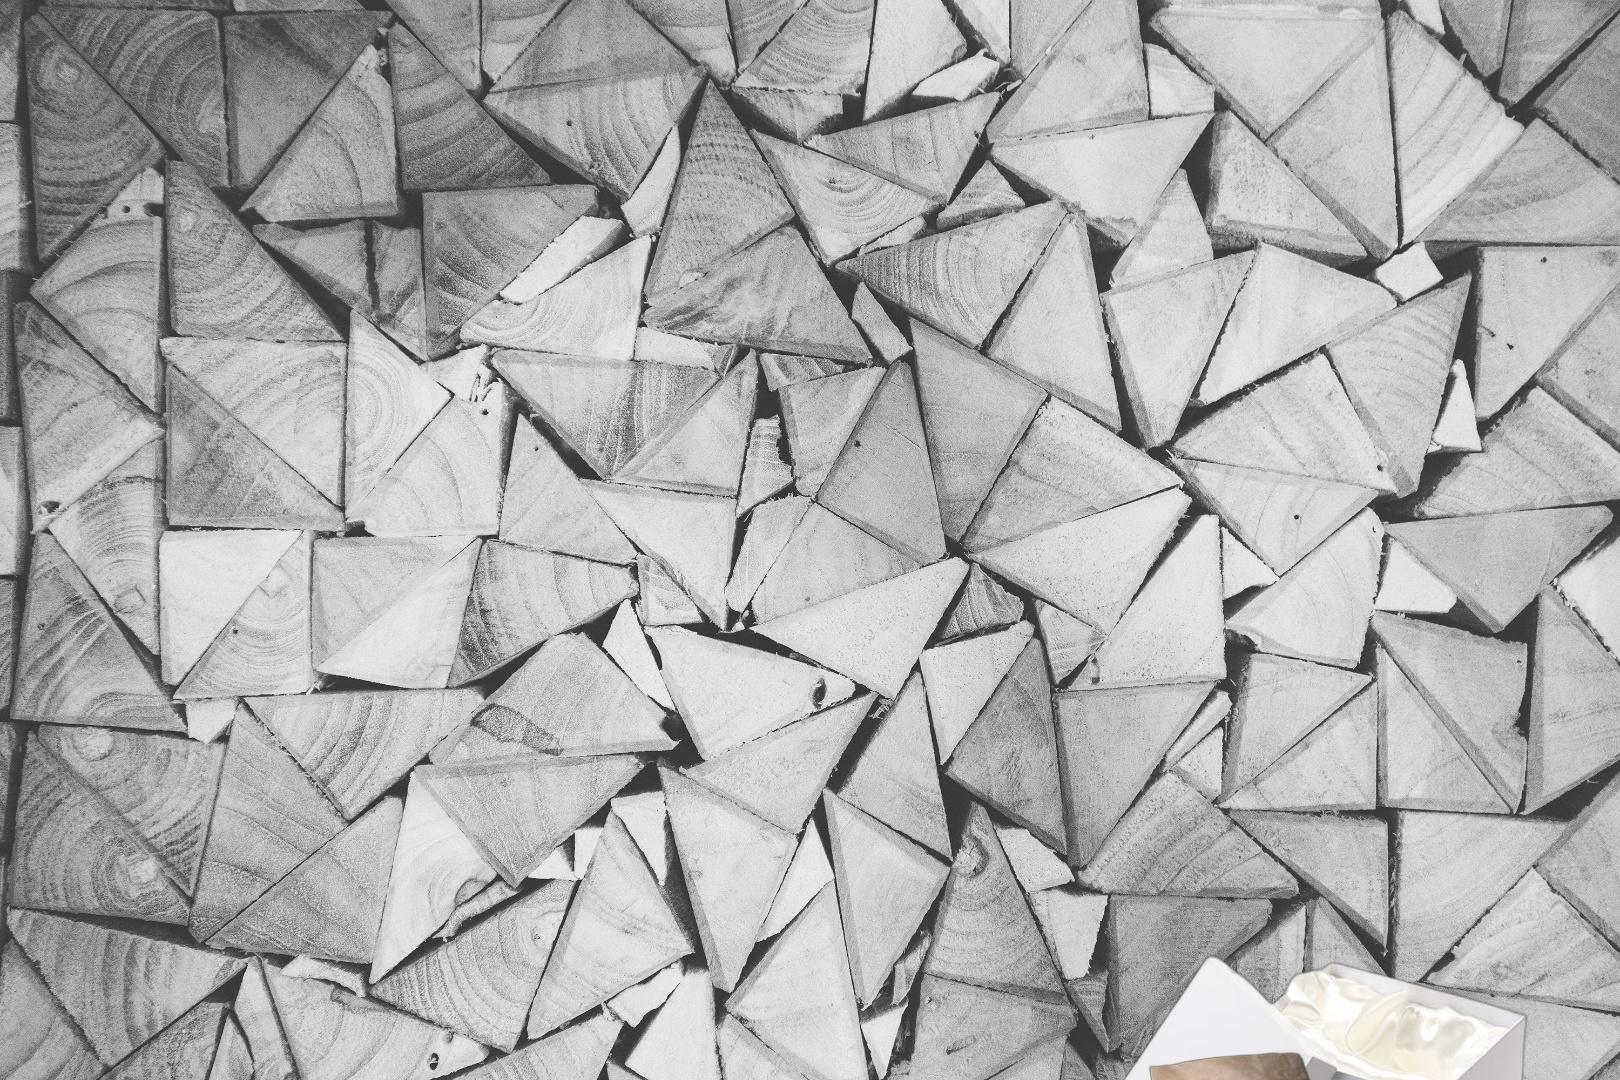paper-bag: (1141, 1050, 1331, 1080)
trashbox-cardboard: (1097, 951, 1531, 1080)
